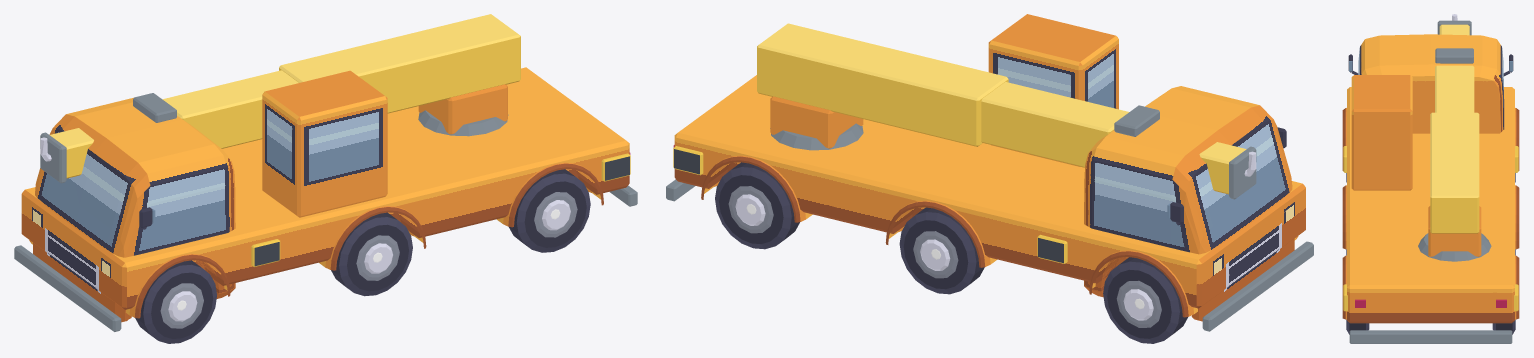
Rendered from mobile-crane-v2.glb.
3 views of the same model, side by side, from view 1: azimuth 30°, elevation 25°; view 2: azimuth 150°, elevation 25°; view 3: azimuth 270°, elevation 25° (orthographic). The views are drawn at different scales.
Visible parts, largest first — view 1: Body_static, Crane_Boom_Paint, Crane_Middle_Paint, Wheel_FL_tire_hub, Wheel_ML_tire_hub, Wheel_RL_tire_hub, Crane_Slew_Paint, Crane_Tip_Paint; view 2: Body_static, Crane_Boom_Paint, Crane_Middle_Paint, Wheel_FR_tire_hub, Wheel_RR_tire_hub, Wheel_MR_tire_hub, Crane_Slew_Paint, Crane_Tip_Paint; view 3: Body_static, Crane_Boom_Paint, Crane_Slew_Paint, Crane_Middle_Paint, Crane_Tip_Paint, Wheel_RL_tire_hub, Wheel_RR_tire_hub.
Part boxes in pixels (x1,y1,x2,y2): Body_static: (14,67,637,331); Crane_Boom_Paint: (279,14,520,113); Crane_Middle_Paint: (163,70,298,148); Wheel_FL_tire_hub: (135,260,216,343); Wheel_ML_tire_hub: (331,212,412,296); Wheel_RL_tire_hub: (509,169,590,252); Crane_Slew_Paint: (418,84,508,136); Crane_Tip_Paint: (40,128,93,183); Body_static: (666,14,1313,331); Crane_Boom_Paint: (757,23,1008,146); Crane_Middle_Paint: (981,82,1128,167); Wheel_FR_tire_hub: (1103,257,1187,343); Wheel_RR_tire_hub: (715,162,799,249); Wheel_MR_tire_hub: (899,207,984,294); Crane_Slew_Paint: (770,96,863,150); Crane_Tip_Paint: (1199,142,1256,199); Body_static: (1342,34,1519,343); Crane_Boom_Paint: (1430,112,1479,233); Crane_Slew_Paint: (1418,206,1491,261); Crane_Middle_Paint: (1435,65,1474,112); Crane_Tip_Paint: (1437,20,1471,35); Wheel_RL_tire_hub: (1345,319,1369,334); Wheel_RR_tire_hub: (1492,319,1516,334).
Bounding box in the file's own units: 128 × 44.52 × 45.46.
1 material, 1 textured.
